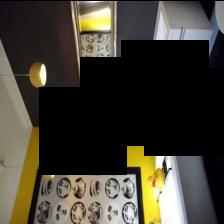yellow: (10, 125, 160, 223), (148, 167, 165, 190)
